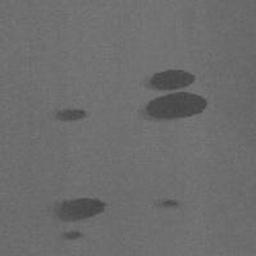Oil spot: (136, 68, 210, 124), (44, 196, 108, 224), (50, 106, 90, 124), (150, 197, 183, 211), (56, 229, 88, 243)
